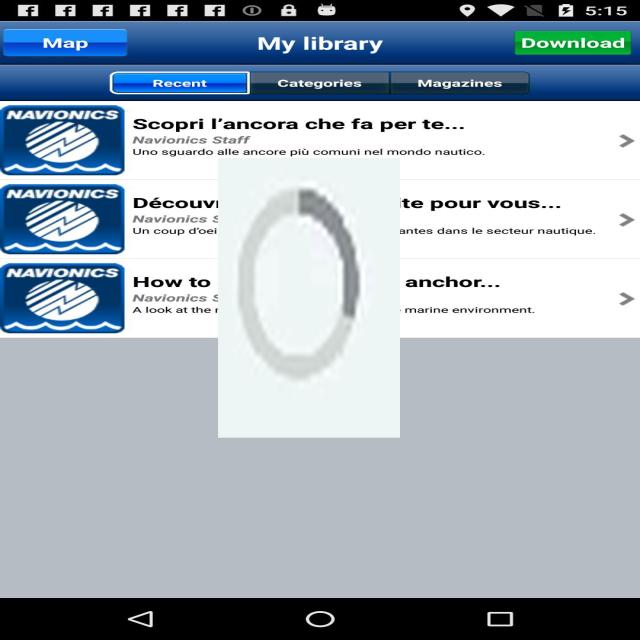misdirection: (218, 158, 400, 438)
